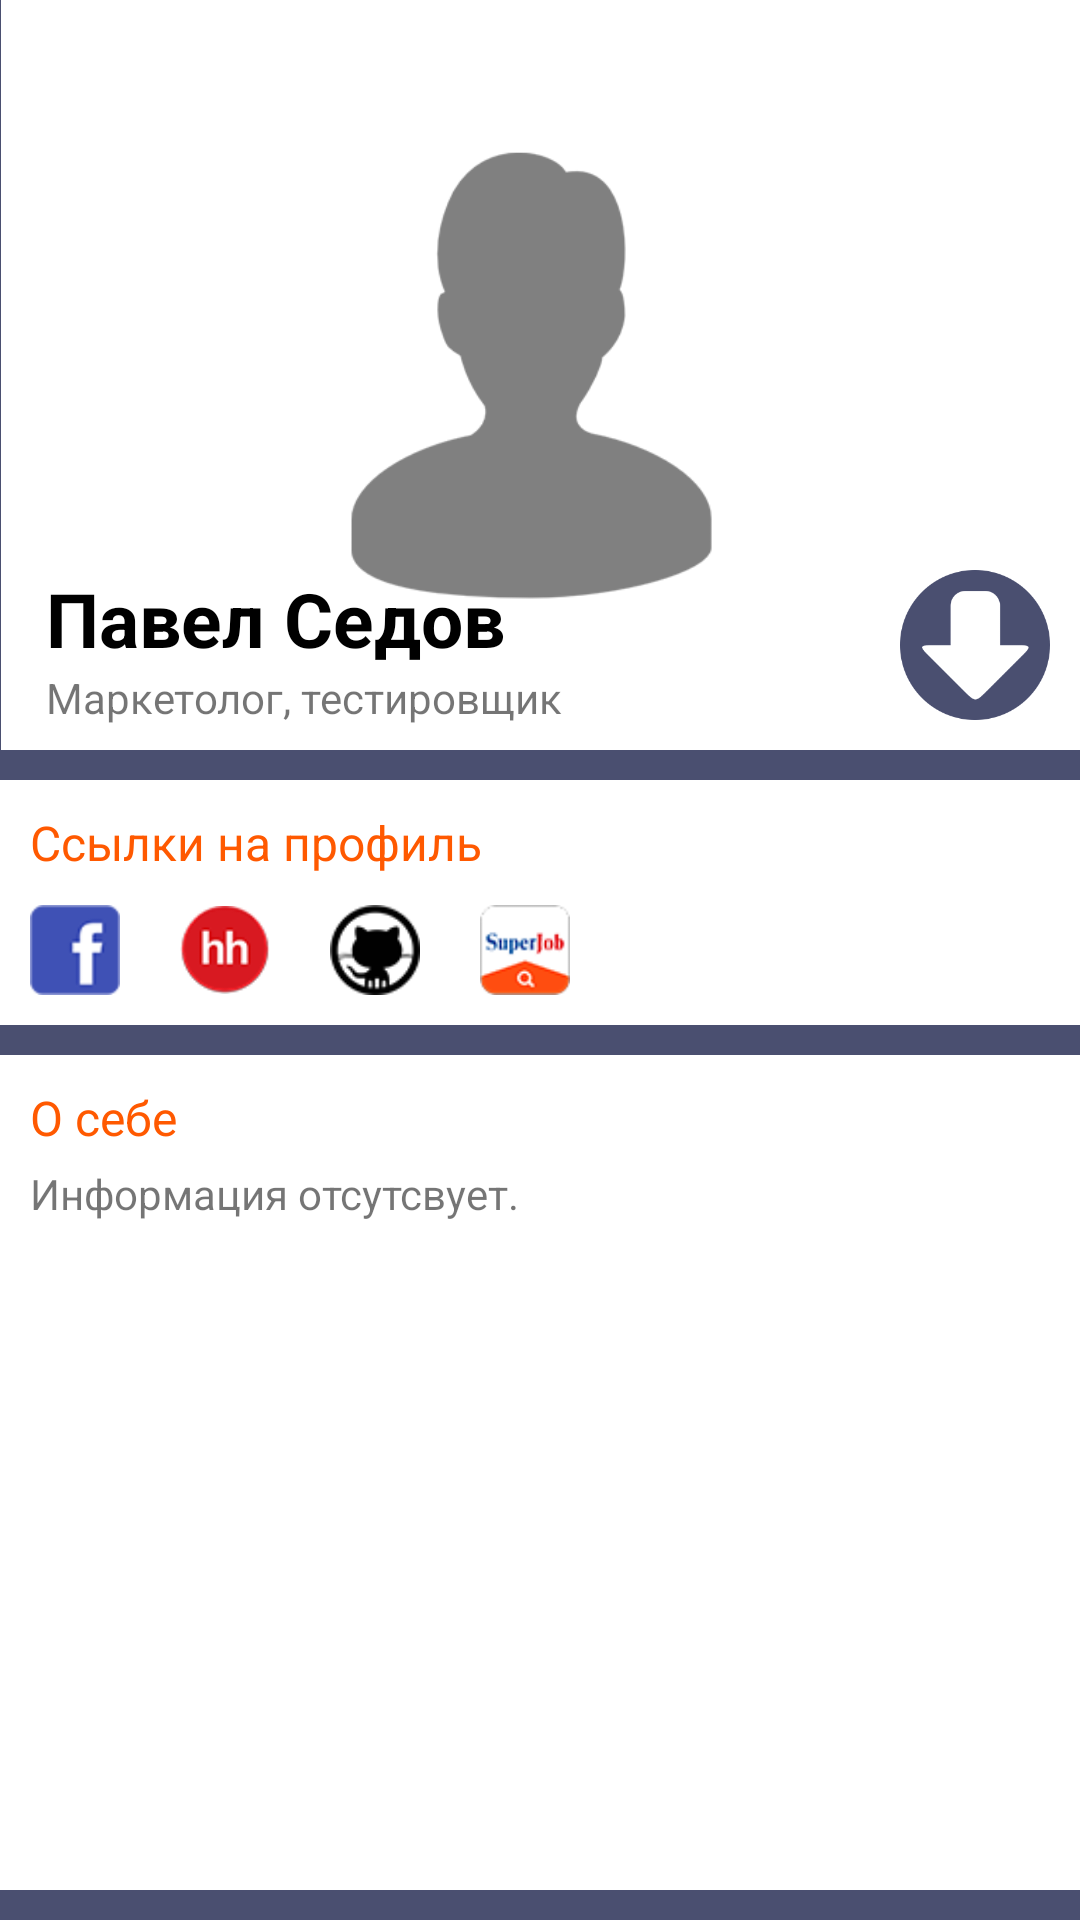

Named icons in this screenshot (1080*1920) and their centers, point (x, y):
down: point (975, 645)
